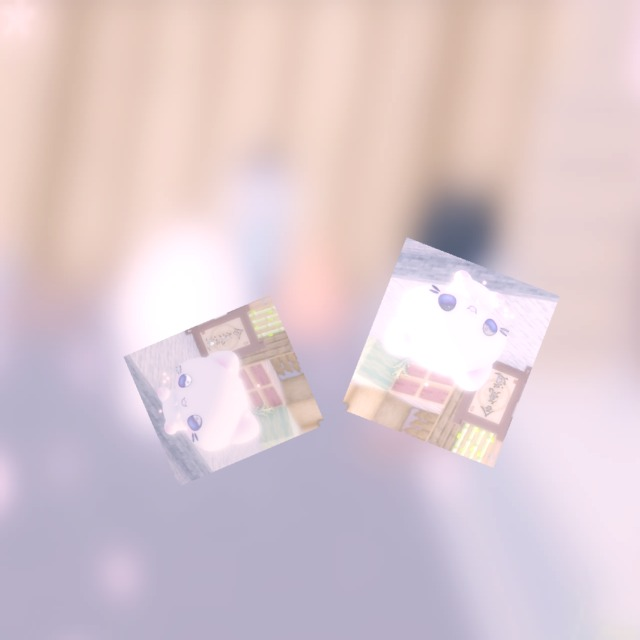urso_branco: (340, 237, 560, 468), (123, 294, 326, 487)
